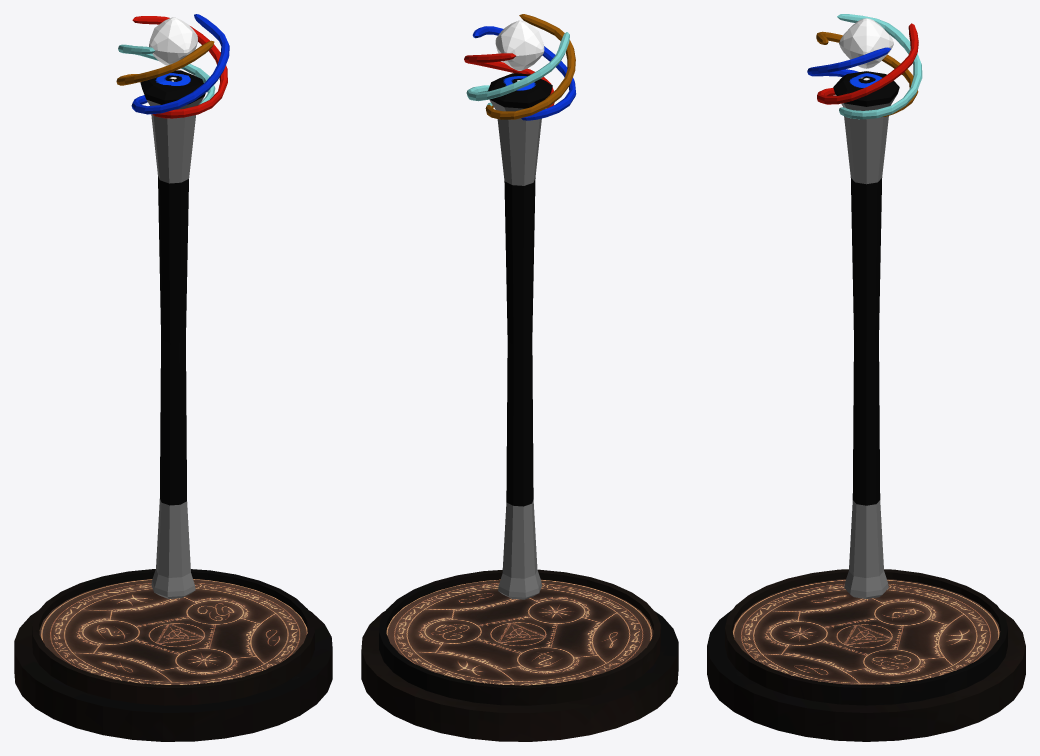
The model's file is Loop Staff - Model.fbx.
The picture shows the model from 3 angles, left to right: view 1: azimuth 30°, elevation 25°; view 2: azimuth 150°, elevation 25°; view 3: azimuth 270°, elevation 25°; orthographic projection.
Visible parts, largest first — view 1: Circle, Cube.002; view 2: Circle, Cube.002; view 3: Circle, Cube.002.
Boxes of the visible parts, bbox=[...] form: Circle: bbox=[14, 569, 332, 741]; Cube.002: bbox=[116, 14, 229, 598]; Circle: bbox=[361, 569, 678, 741]; Cube.002: bbox=[464, 14, 576, 599]; Circle: bbox=[707, 569, 1025, 741]; Cube.002: bbox=[807, 14, 922, 598].
Size of the model in its own units: 786 by 1784 by 786.
